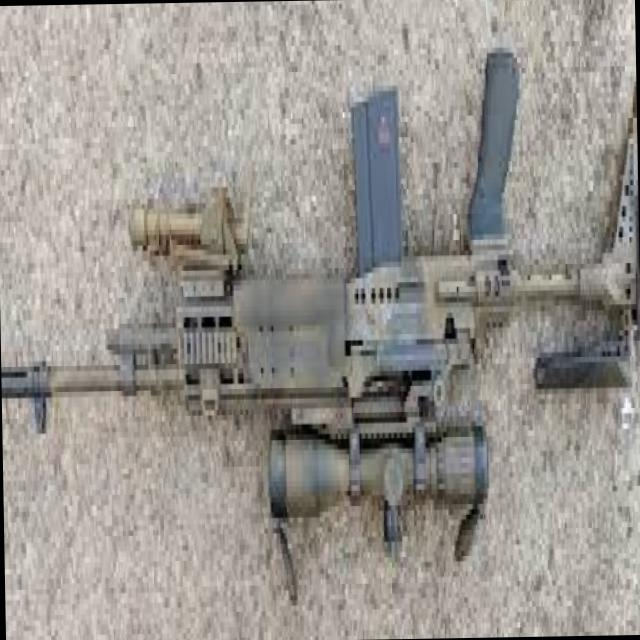Gun: (0, 105, 632, 544)
